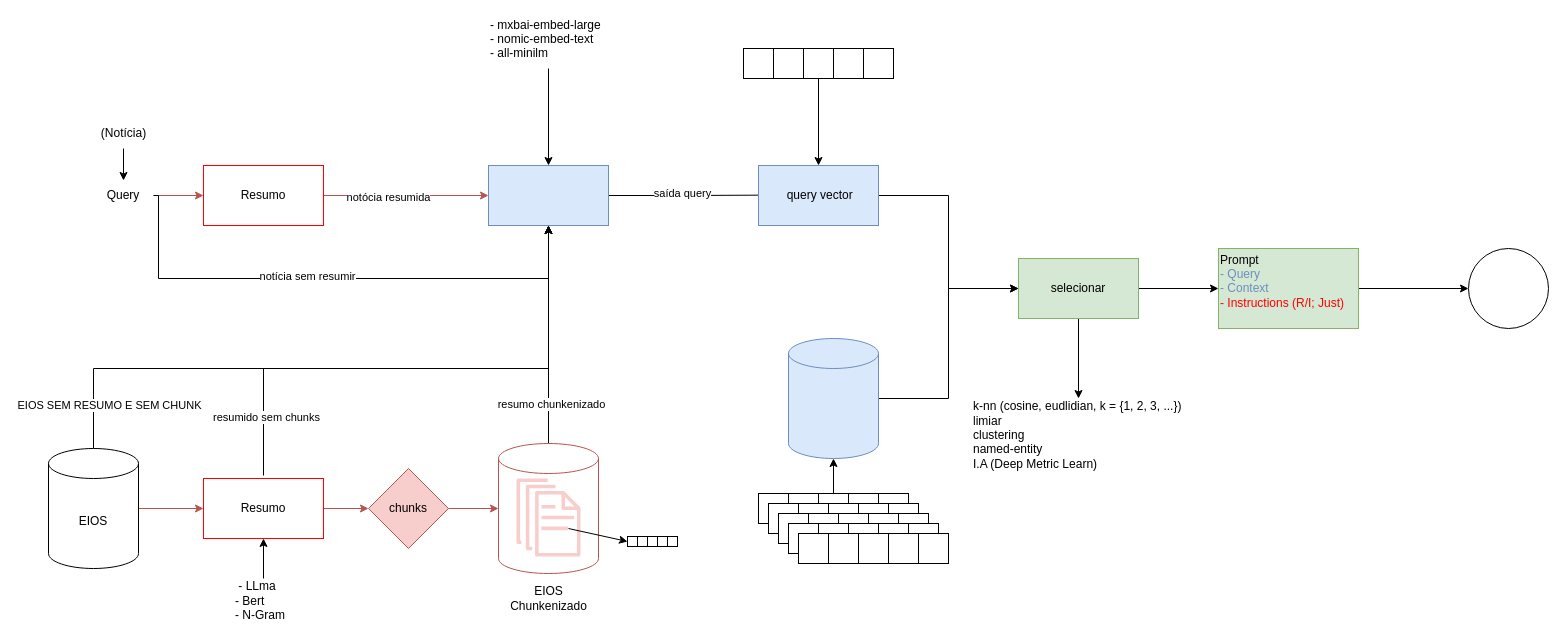
The diagram is 1566 pixels wide and 639 high, and some of its shapes have lost their labels. Each missing label, with the centre of its shape:
EIOS VectorStore: the point at 833,398
Modelo de Embedding: the point at 548,195
saída: the point at 1508,288
